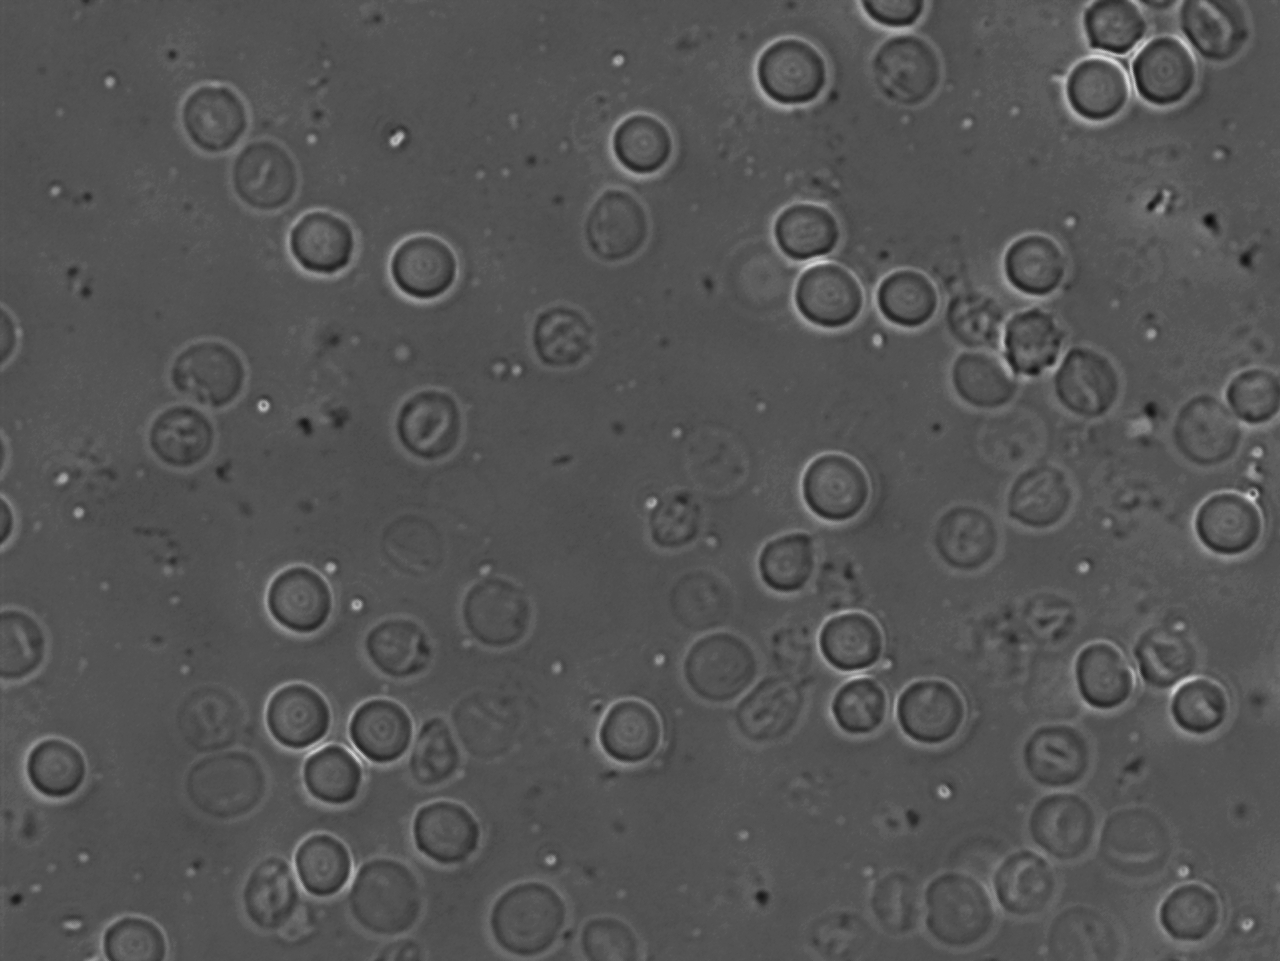depth:0: (1175, 471, 1273, 577), (261, 201, 368, 298), (748, 23, 850, 121), (377, 213, 476, 310), (250, 555, 350, 649), (6, 718, 100, 815), (1052, 42, 1149, 136), (799, 595, 905, 680), (1065, 631, 1158, 729), (1011, 778, 1109, 869), (760, 181, 856, 273), (880, 666, 972, 761), (992, 211, 1083, 307), (741, 513, 835, 605), (1119, 27, 1213, 118), (582, 685, 676, 775), (865, 245, 953, 340), (785, 249, 880, 336), (595, 103, 688, 190), (246, 670, 342, 755), (788, 441, 879, 528), (403, 788, 490, 878), (286, 823, 374, 903), (825, 673, 910, 753), (1040, 340, 1127, 416), (342, 692, 426, 769), (296, 741, 374, 812), (87, 907, 181, 961)
